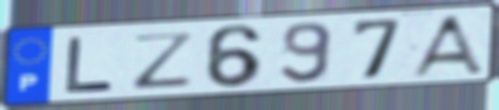6: (202, 23, 266, 90)
7: (348, 17, 408, 81)
9: (278, 20, 333, 85)
A: (405, 13, 488, 79)
L: (63, 35, 118, 96)
Z: (130, 29, 200, 91)
